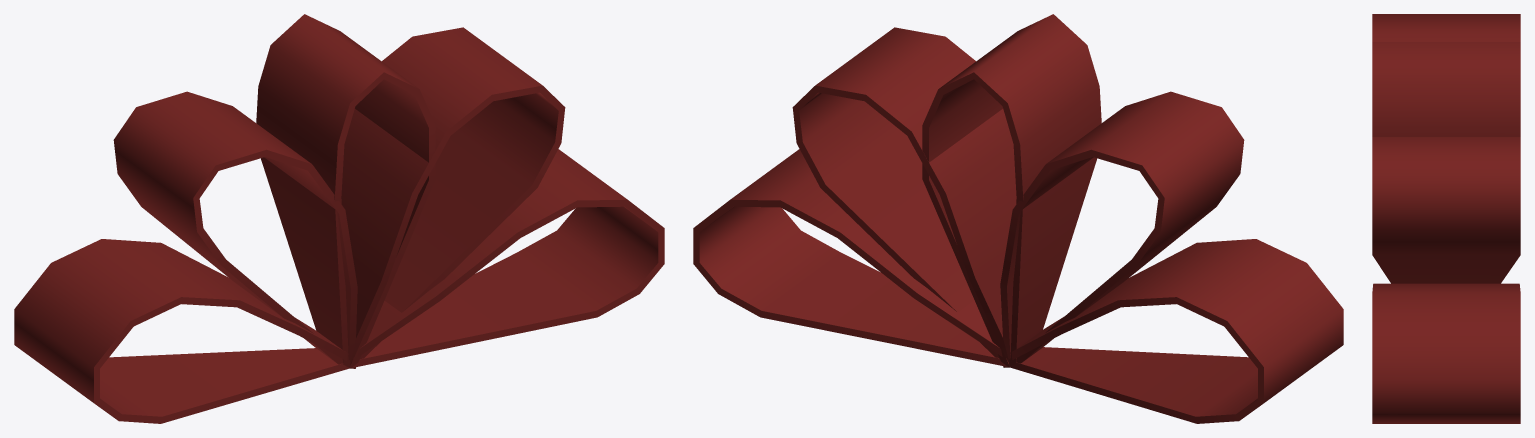
File: Bow_03.fbx
3 renders of one model, left to right at view 1: azimuth 30°, elevation 25°; view 2: azimuth 150°, elevation 25°; view 3: azimuth 270°, elevation 25°, orthographic. The views are drawn at different scales.
Parts seen in each view (by area): view 1: Bow_03; view 2: Bow_03; view 3: Bow_03.
Boxes of the visible parts, left/top/right/bottom form: Bow_03: left=14, top=14, right=664, bottom=423; Bow_03: left=693, top=14, right=1343, bottom=423; Bow_03: left=1372, top=14, right=1520, bottom=423.
Bounding box in the file's own units: 0.1982 × 0.1057 × 0.0478.
